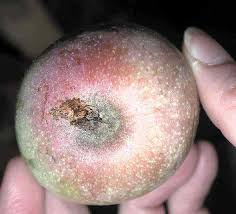damaged_apple: (16, 24, 212, 202)
